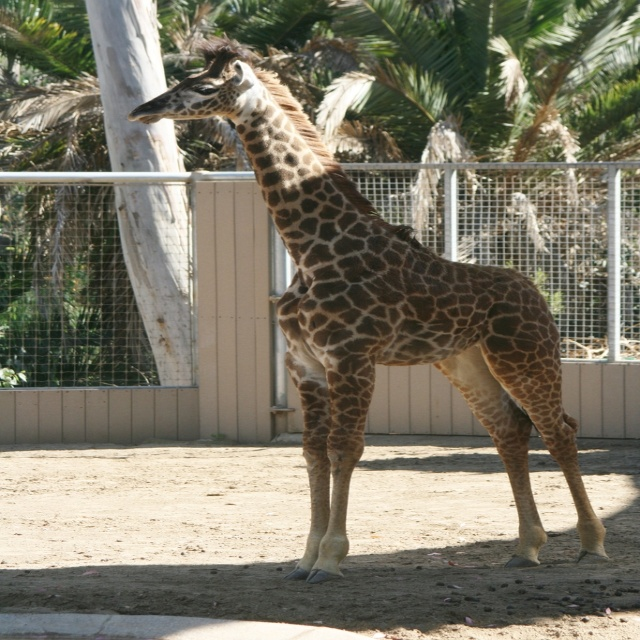Giraffe: (140, 51, 603, 592)
